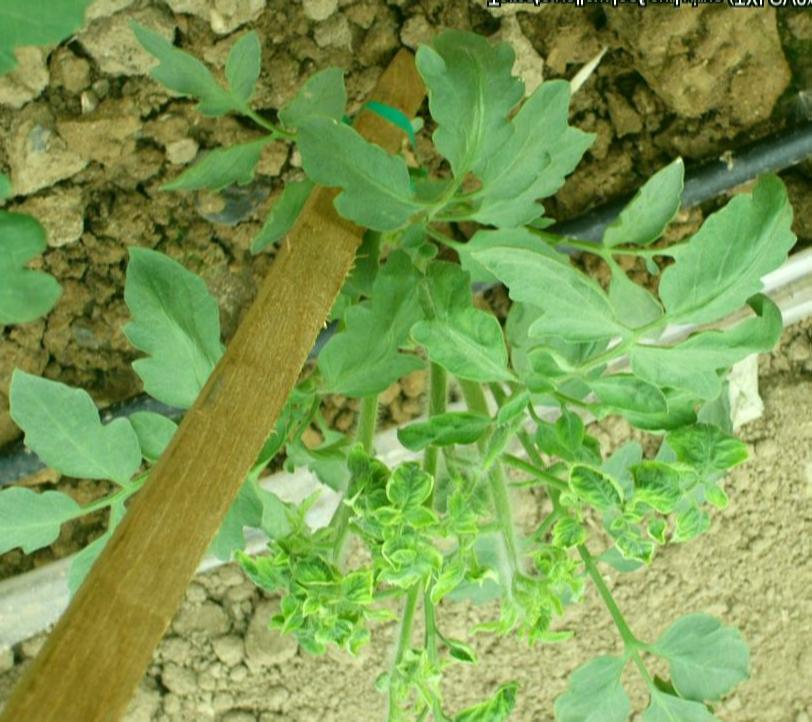Tomato leaf: (661, 163, 792, 328), (488, 252, 657, 365), (310, 262, 432, 409), (413, 26, 526, 183), (117, 251, 219, 413), (7, 367, 131, 492), (294, 110, 418, 233), (473, 80, 587, 203), (652, 608, 754, 704), (0, 469, 92, 574), (601, 160, 689, 254), (554, 636, 648, 722), (159, 137, 279, 201), (582, 369, 670, 419)
